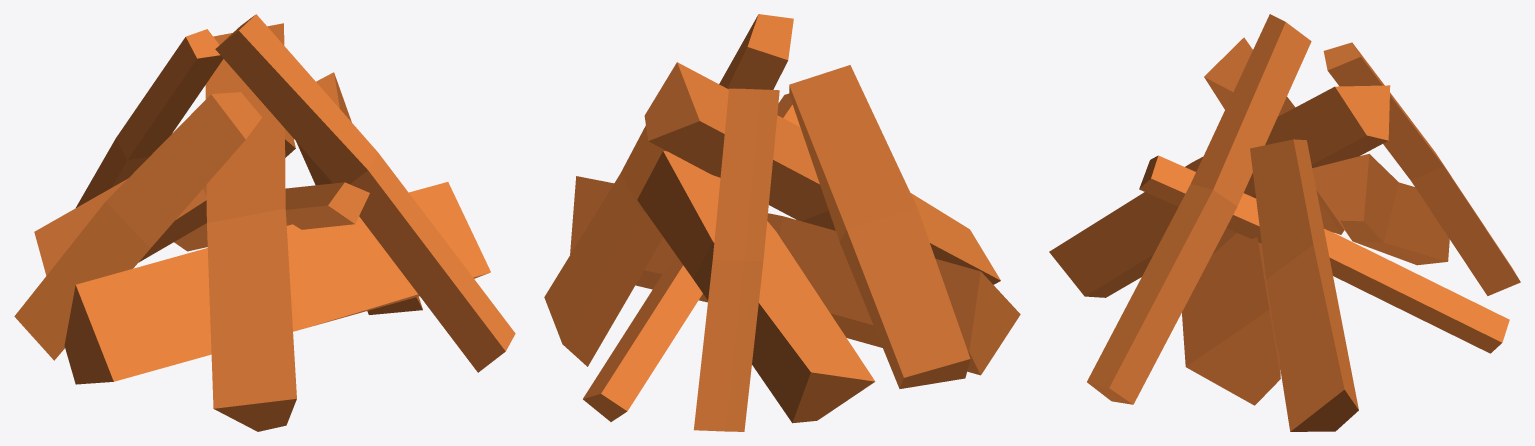
The model's file is FireLog.gltf.
3 views of the same model, side by side, from view 1: azimuth 30°, elevation 25°; view 2: azimuth 150°, elevation 25°; view 3: azimuth 270°, elevation 25° (orthographic). The views are drawn at different scales.
Visible parts, largest first — view 1: Bonfire; view 2: Bonfire; view 3: Bonfire.
Part boxes in pixels (bbox=[...]): Bonfire: bbox=[14, 14, 515, 431]; Bonfire: bbox=[544, 14, 1020, 431]; Bonfire: bbox=[1049, 14, 1520, 431].
Size of the model in its own units: 1.43 by 1.19 by 1.48.
